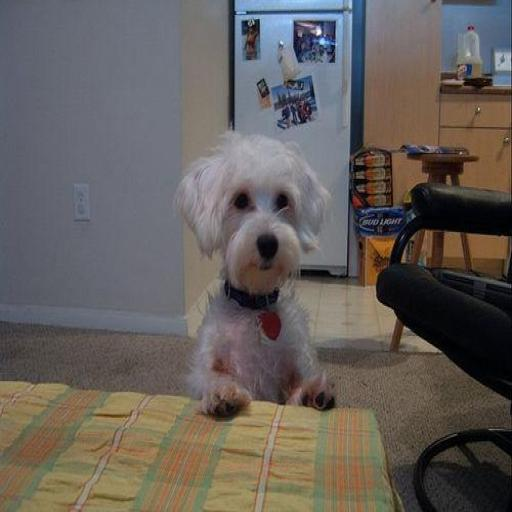dog_face: (194, 146, 322, 298)
